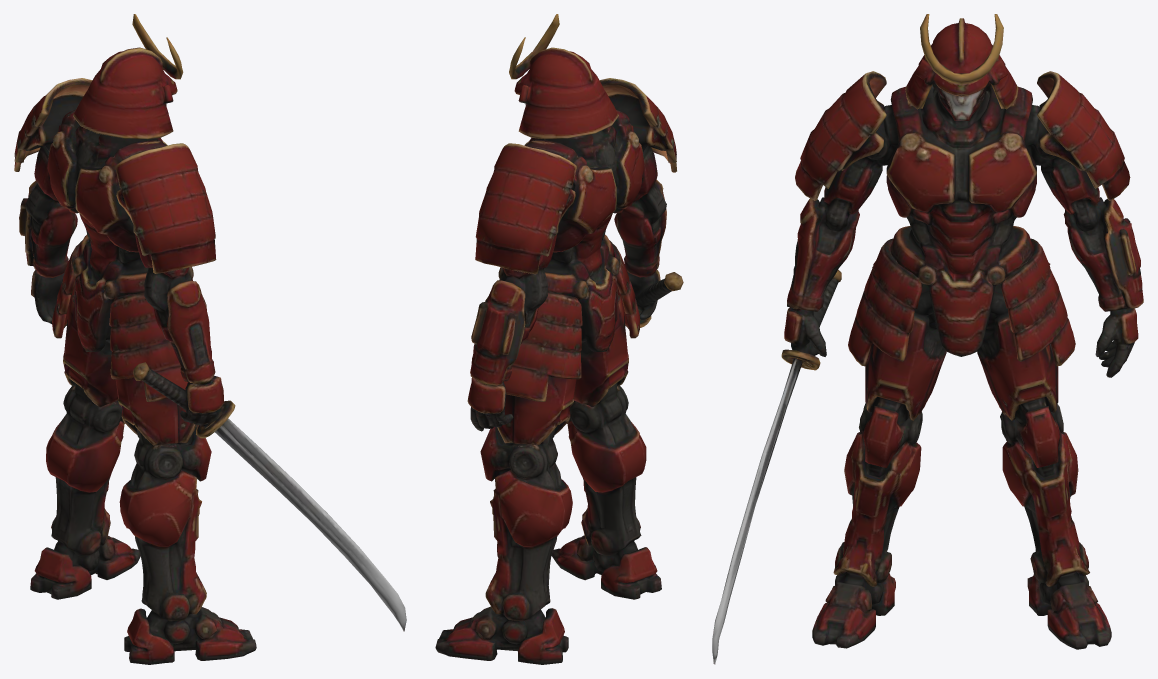
Rendered from d544a72e-1082-4fbd-8f88-7183fe80350b-model_url.glb.
The picture shows the model from 3 angles, left to right: view 1: azimuth 30°, elevation 25°; view 2: azimuth 150°, elevation 25°; view 3: azimuth 270°, elevation 25°; orthographic projection. The views are drawn at different scales.
Parts seen in each view (by area): view 1: tripo_node_2f5656fc-e857-46ac-85f7-64cf547038cc; view 2: tripo_node_2f5656fc-e857-46ac-85f7-64cf547038cc; view 3: tripo_node_2f5656fc-e857-46ac-85f7-64cf547038cc.
Boxes of the visible parts, x1,y1,x2,y2 form: tripo_node_2f5656fc-e857-46ac-85f7-64cf547038cc: [14, 14, 406, 664]; tripo_node_2f5656fc-e857-46ac-85f7-64cf547038cc: [435, 14, 683, 664]; tripo_node_2f5656fc-e857-46ac-85f7-64cf547038cc: [712, 14, 1143, 664].
Bounding box in the file's own units: 0.3914 × 0.9961 × 0.6341.
Materials: 1 (1 with a texture image).
